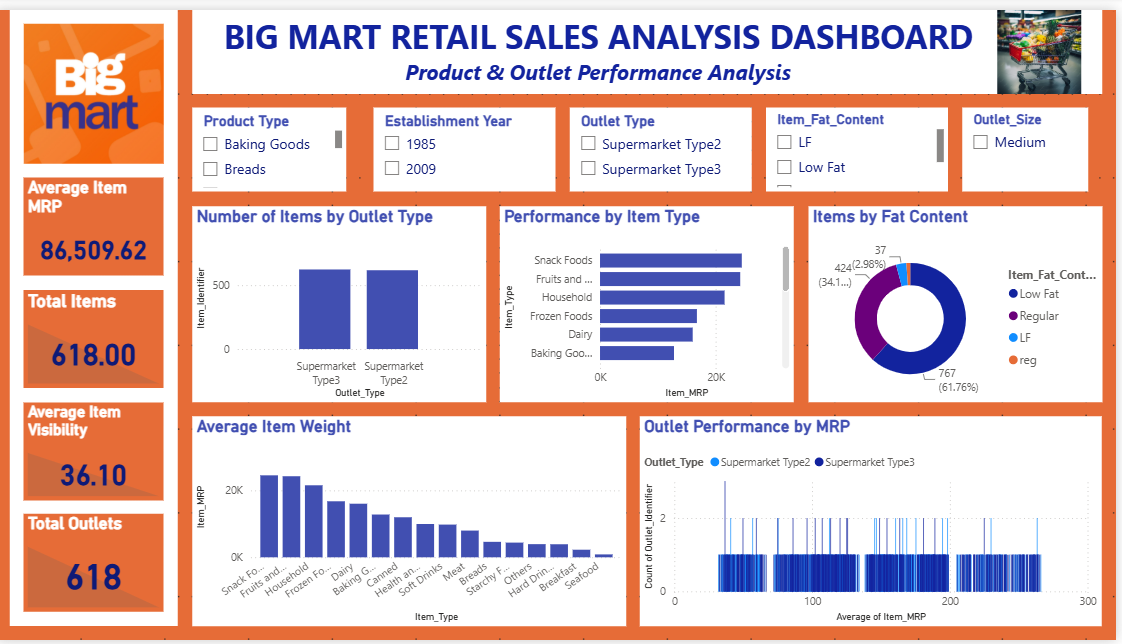

Layout of this report page (visuals, bound fields, positions):
{"tool":"powerbi","page":{"name":"Page 1","canvas":[1280,720],"ordinal":0},"visuals":[{"type":"textbox","box":[224,0,1040,96],"z":0},{"type":"slicer","fields":{"Values":["Big_Mart_Sales.Outlet_Location_Type"]},"box":[48,192,144,128],"z":1000},{"type":"slicer","fields":{"Values":["Big_Mart_Sales.Outlet_Size"]},"box":[32,176,160,128],"z":2000},{"type":"textbox","box":[16,0,192,704],"z":3000},{"type":"image","box":[1104,0,176,96],"z":4000},{"type":"clusteredColumnChart","title":"Number of Items by Outlet Type","fields":{"Y":["CountNonNull(Big_Mart_Sales.Item_Identifier)"],"Category":["Big_Mart_Sales.Outlet_Type"]},"box":[224,224,336,224],"z":5000},{"type":"slicer","fields":{"Values":["Big_Mart_Sales.Outlet_Establishment_Year"]},"box":[432,112,208,96],"z":6000},{"type":"slicer","fields":{"Values":["Big_Mart_Sales.Item_Fat_Content"]},"box":[880,112,208,96],"z":7000},{"type":"slicer","fields":{"Values":["Big_Mart_Sales.Item_Type"]},"box":[224,112,176,96],"z":8000},{"type":"slicer","fields":{"Values":["Big_Mart_Sales.Outlet_Type"]},"box":[656,112,208,96],"z":9000},{"type":"clusteredColumnChart","title":"Outlet Performance by MRP","fields":{"Category":["Big_Mart_Sales.Item_MRP"],"Y":["CountNonNull(Big_Mart_Sales.Outlet_Identifier)"],"Series":["Big_Mart_Sales.Outlet_Type"]},"box":[736,464,528,240],"z":10000},{"type":"clusteredColumnChart","title":"Average Item Weight","fields":{"Category":["Big_Mart_Sales.Item_Type"],"Y":["Sum(Big_Mart_Sales.Item_MRP)"]},"box":[224,464,496,240],"z":11000},{"type":"clusteredBarChart","title":"Performance by Item Type","fields":{"Category":["Big_Mart_Sales.Item_Type"],"Y":["Sum(Big_Mart_Sales.Item_MRP)"]},"box":[576,224,336,224],"z":12000},{"type":"donutChart","title":"Items by Fat Content","fields":{"Category":["Big_Mart_Sales.Item_Fat_Content"],"Y":["CountNonNull(Big_Mart_Sales.Item_Identifier)"]},"box":[928,224,336,224],"z":13000},{"type":"image","box":[16,16,192,160],"z":14000},{"type":"kpi","title":"Average Item MRP","fields":{"Indicator":["Sum(Big_Mart_Sales.Item_MRP)"],"TrendLine":["Big_Mart_Sales.Outlet_Establishment_Year"]},"box":[32,192,160,112],"z":15000},{"type":"kpi","title":"Total Items","fields":{"TrendLine":["Big_Mart_Sales.Outlet_Establishment_Year"],"Indicator":["CountNonNull(Big_Mart_Sales.Item_Identifier)"]},"box":[32,320,160,112],"z":16000},{"type":"kpi","title":"Average Item Visibility","fields":{"TrendLine":["Big_Mart_Sales.Outlet_Establishment_Year"],"Indicator":["Sum(Big_Mart_Sales.Item_Visibility)"]},"box":[32,448,160,112],"z":17000},{"type":"kpi","title":"Total Outlets","fields":{"TrendLine":["Big_Mart_Sales.Outlet_Establishment_Year"],"Indicator":["CountNonNull(Big_Mart_Sales.Outlet_Identifier)"]},"box":[32,576,160,112],"z":18000},{"type":"slicer","fields":{"Values":["Big_Mart_Sales.Outlet_Size"]},"box":[1104,112,144,96],"z":18001}]}

Visuals, with their boxes in screenshot pixels (x1, y1, x2, y2), scaled from the page's 1280x720 canvas onto the 1122x644 screenshot:
textbox: <region>196, 0, 1108, 86</region>
slicer - Big_Mart_Sales.Outlet_Location_Type: <region>42, 172, 168, 286</region>
slicer - Big_Mart_Sales.Outlet_Size: <region>28, 157, 168, 272</region>
textbox: <region>14, 0, 182, 630</region>
image: <region>968, 0, 1121, 86</region>
"Number of Items by Outlet Type" clusteredColumnChart: <region>196, 200, 491, 401</region>
slicer - Big_Mart_Sales.Outlet_Establishment_Year: <region>379, 100, 561, 186</region>
slicer - Big_Mart_Sales.Item_Fat_Content: <region>771, 100, 954, 186</region>
slicer - Big_Mart_Sales.Item_Type: <region>196, 100, 351, 186</region>
slicer - Big_Mart_Sales.Outlet_Type: <region>575, 100, 757, 186</region>
"Outlet Performance by MRP" clusteredColumnChart: <region>645, 415, 1108, 630</region>
"Average Item Weight" clusteredColumnChart: <region>196, 415, 631, 630</region>
"Performance by Item Type" clusteredBarChart: <region>505, 200, 799, 401</region>
"Items by Fat Content" donutChart: <region>813, 200, 1108, 401</region>
image: <region>14, 14, 182, 157</region>
"Average Item MRP" kpi: <region>28, 172, 168, 272</region>
"Total Items" kpi: <region>28, 286, 168, 386</region>
"Average Item Visibility" kpi: <region>28, 401, 168, 501</region>
"Total Outlets" kpi: <region>28, 515, 168, 615</region>
slicer - Big_Mart_Sales.Outlet_Size: <region>968, 100, 1094, 186</region>
